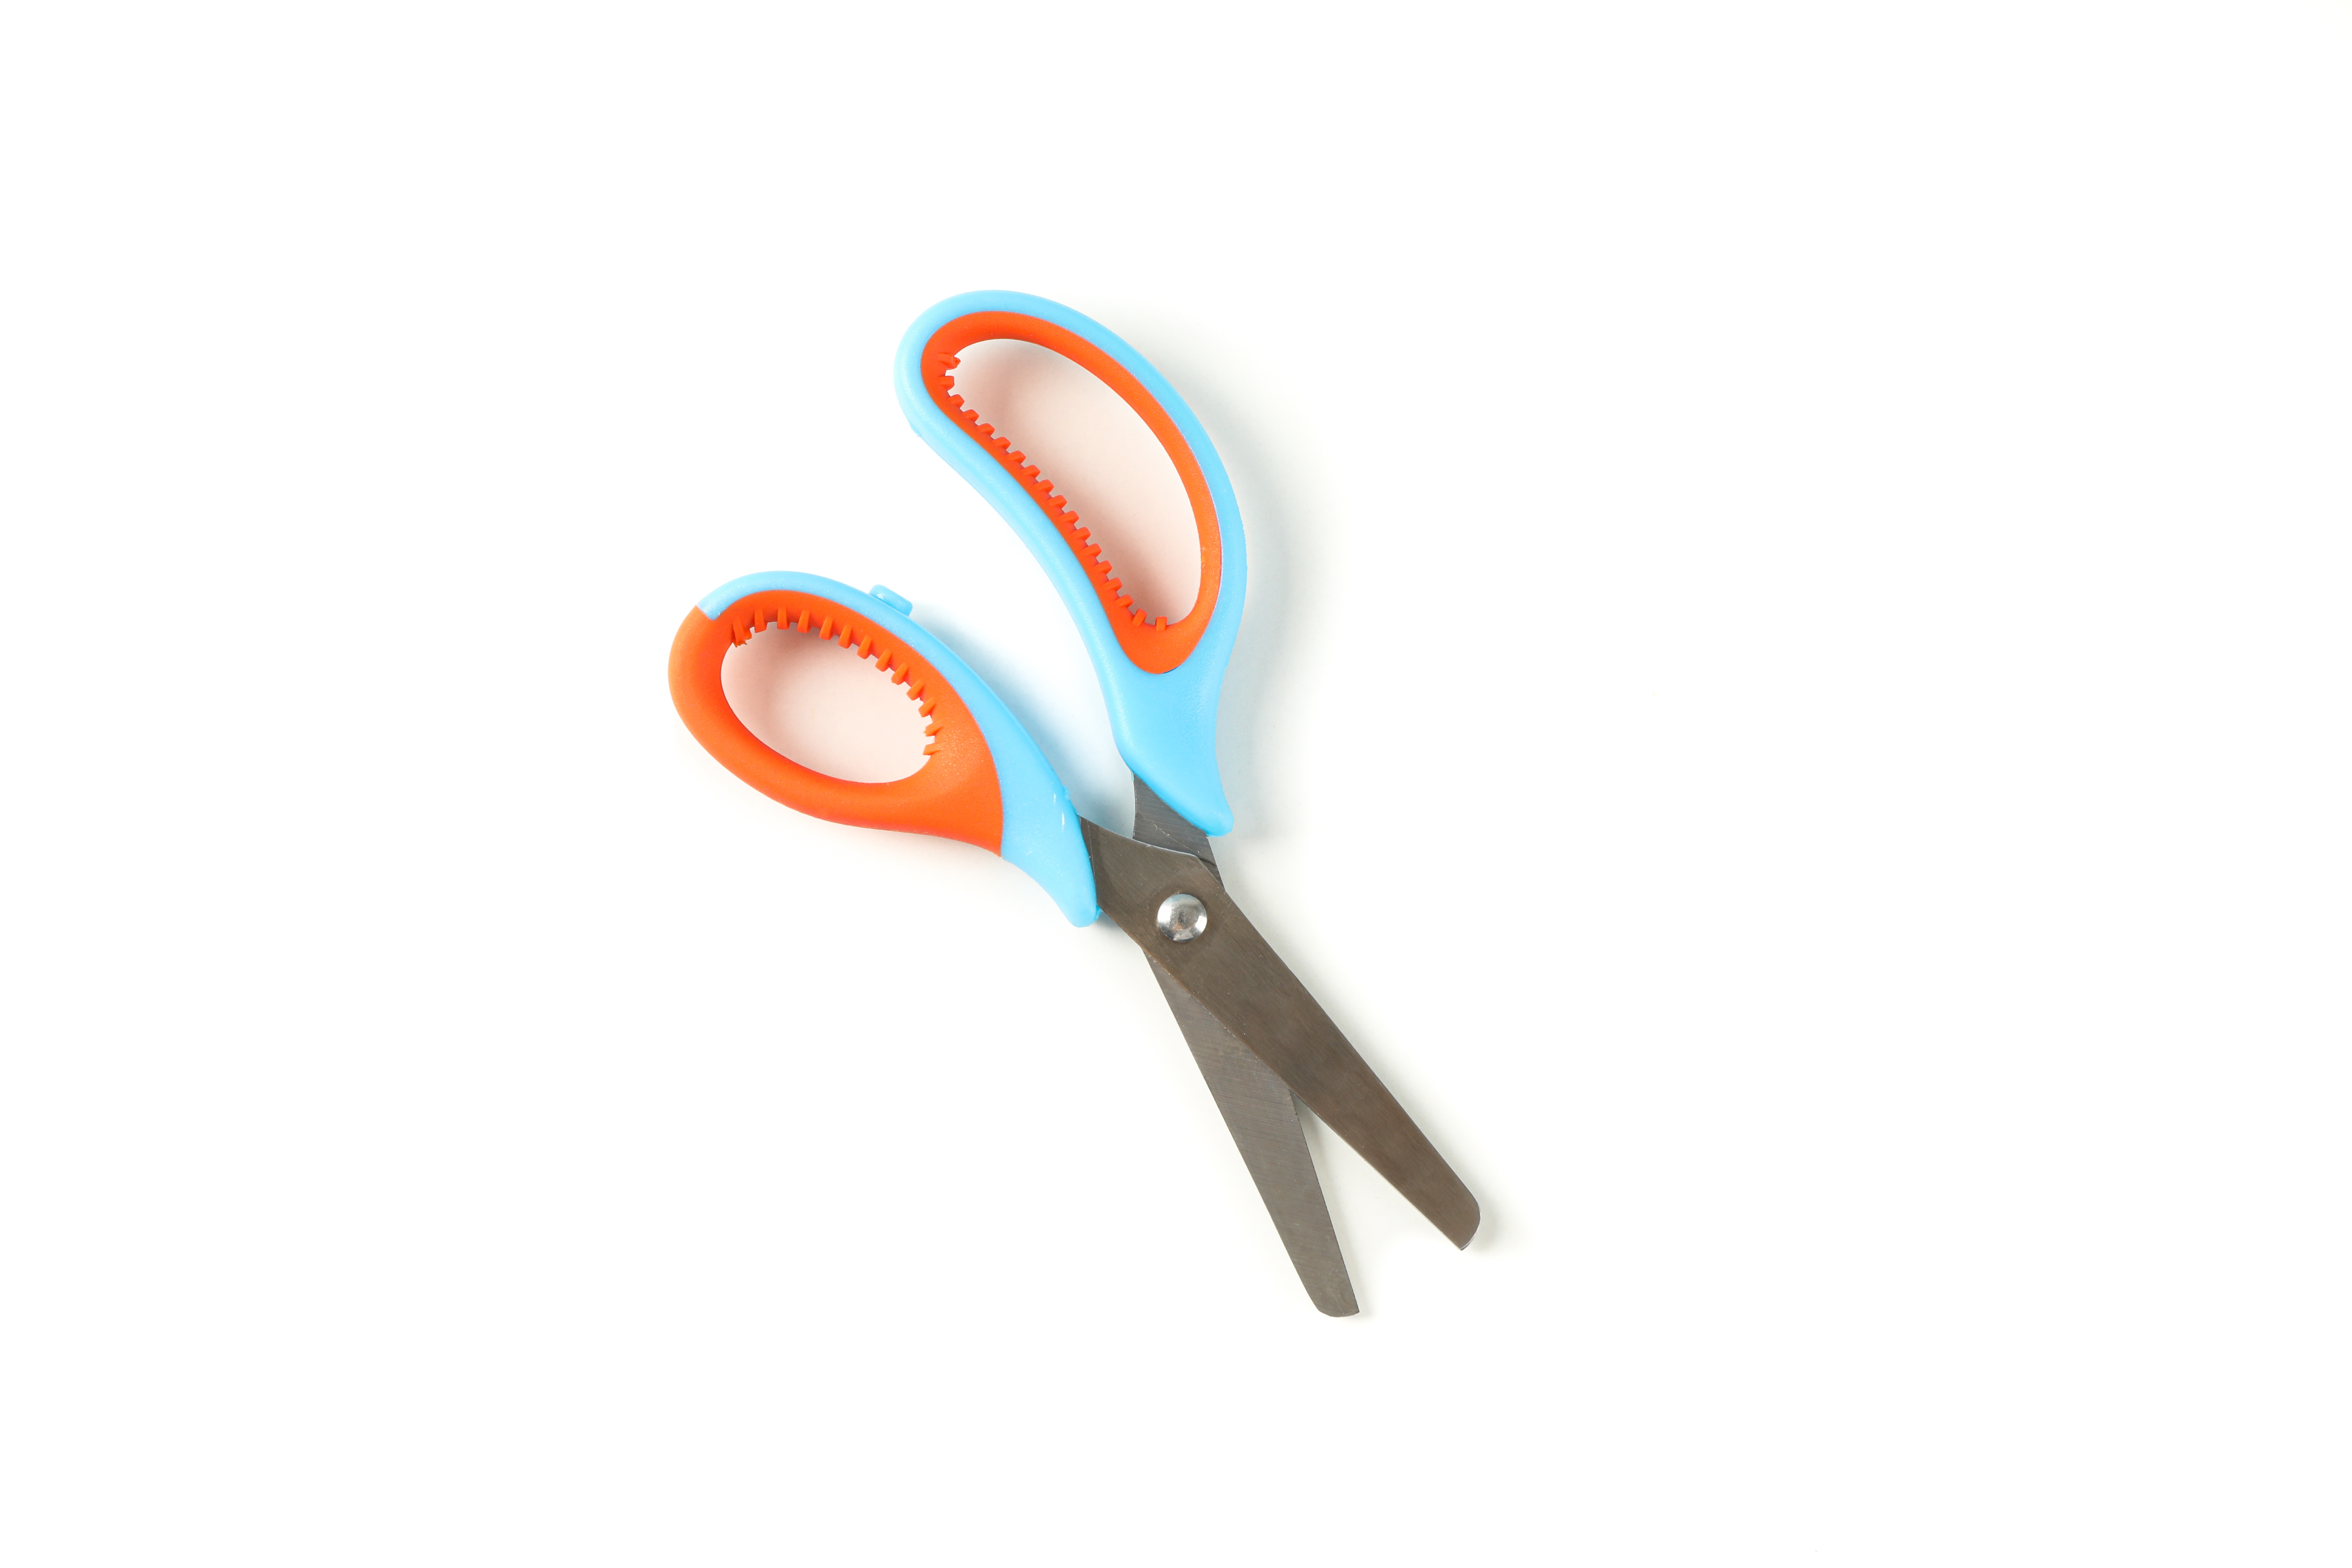scissor: (584, 234, 1545, 1366)
